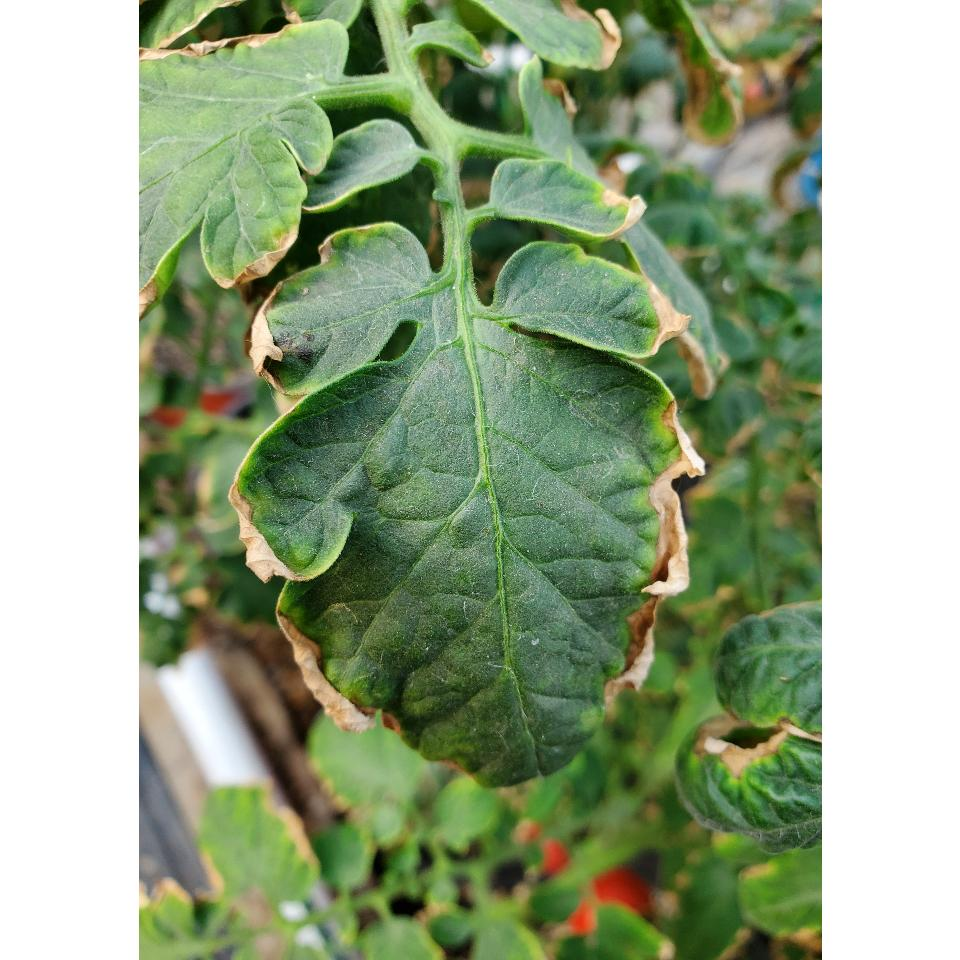tomato_bacterial_blight: (231, 249, 709, 765)
